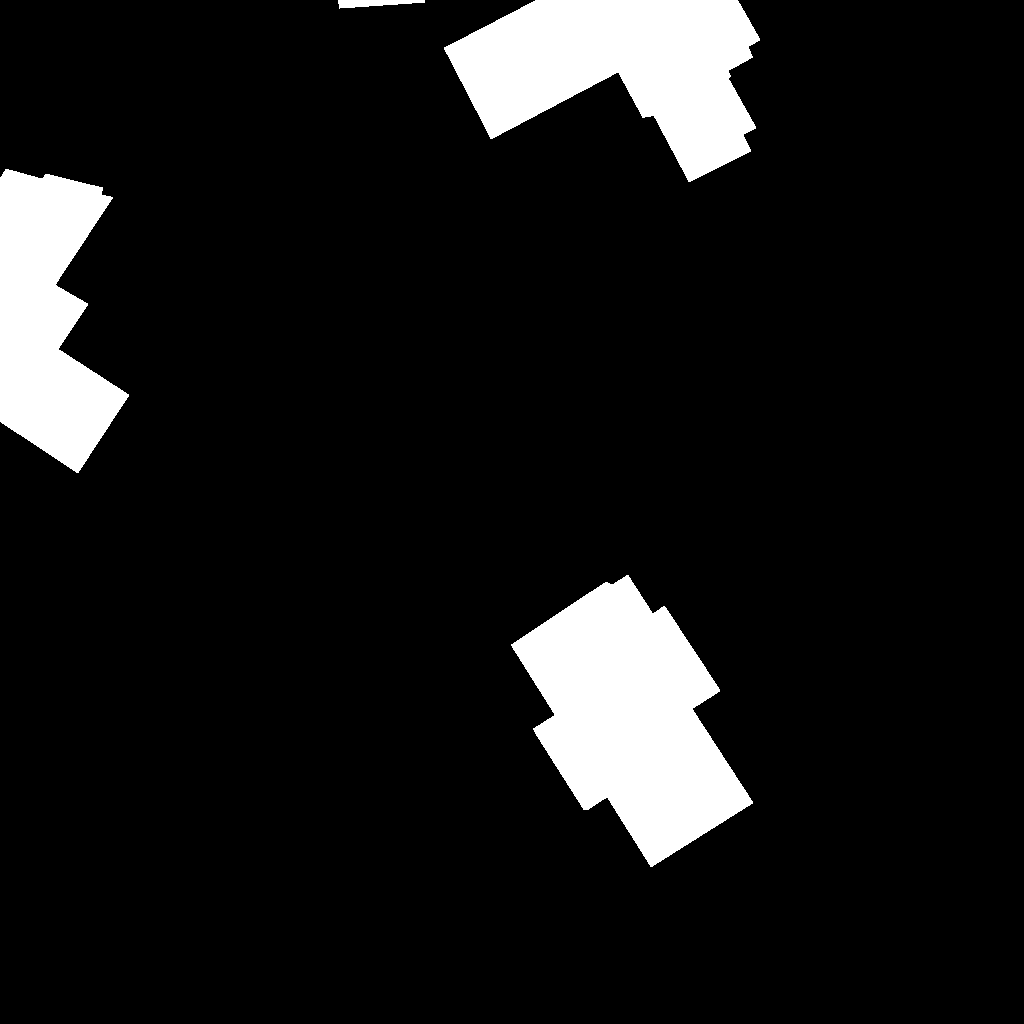building: (511, 575, 754, 868), (444, 0, 761, 183), (0, 169, 130, 474), (338, 0, 426, 9)
